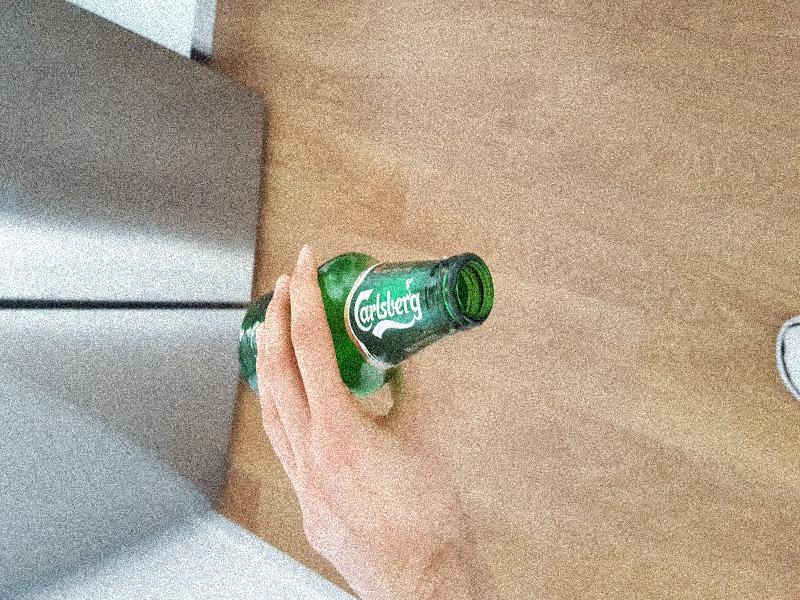Beer: (239, 253, 494, 395)
